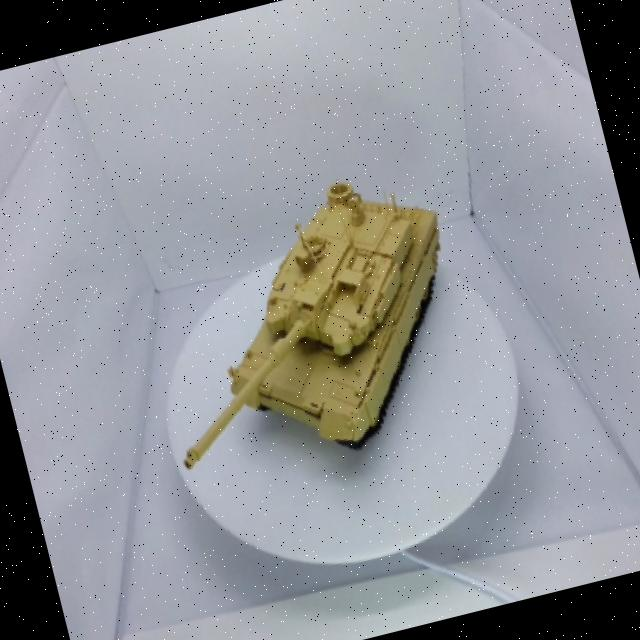korea tank: (87, 135, 519, 524)
